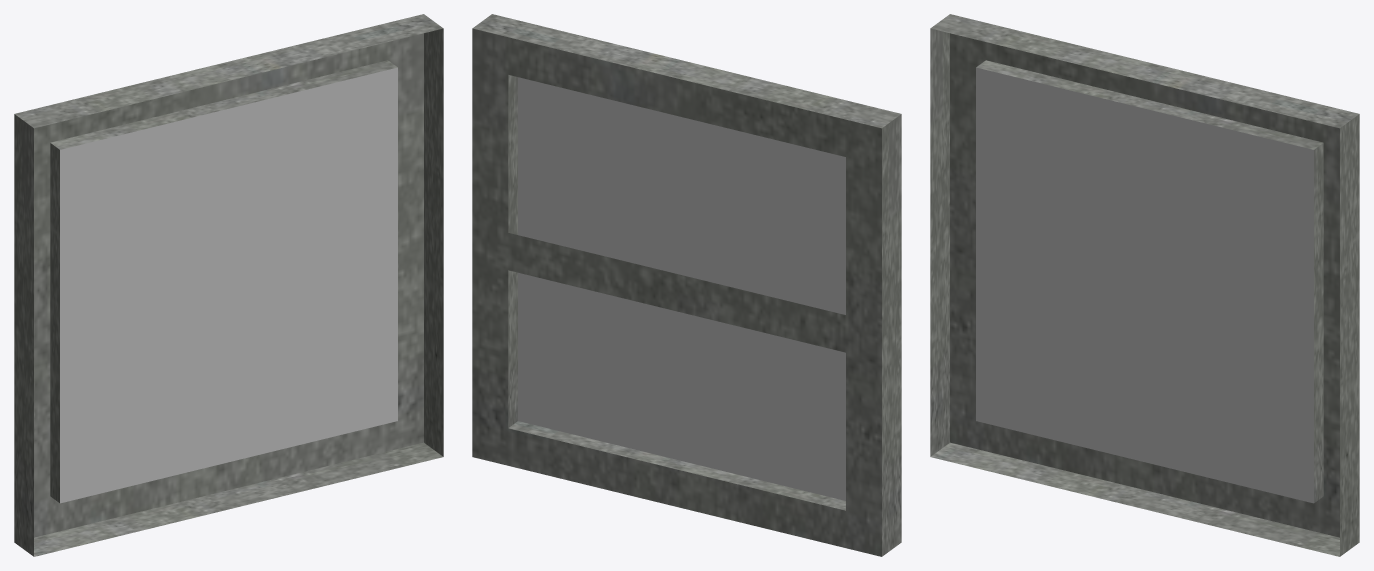
Rendered from windowWide_typeB.fbx.
3 renders of one model, left to right at view 1: azimuth 30°, elevation 25°; view 2: azimuth 150°, elevation 25°; view 3: azimuth 330°, elevation 25°, orthographic.
Visible parts, largest first — view 1: windowWide_typeB; view 2: windowWide_typeB; view 3: windowWide_typeB.
Boxes of the visible parts, x1=… form: windowWide_typeB: x1=14, y1=14, x2=443, y2=556; windowWide_typeB: x1=472, y1=14, x2=901, y2=556; windowWide_typeB: x1=930, y1=14, x2=1359, y2=556.
Size of the model in its own units: 5.98 by 5.98 by 0.5.
